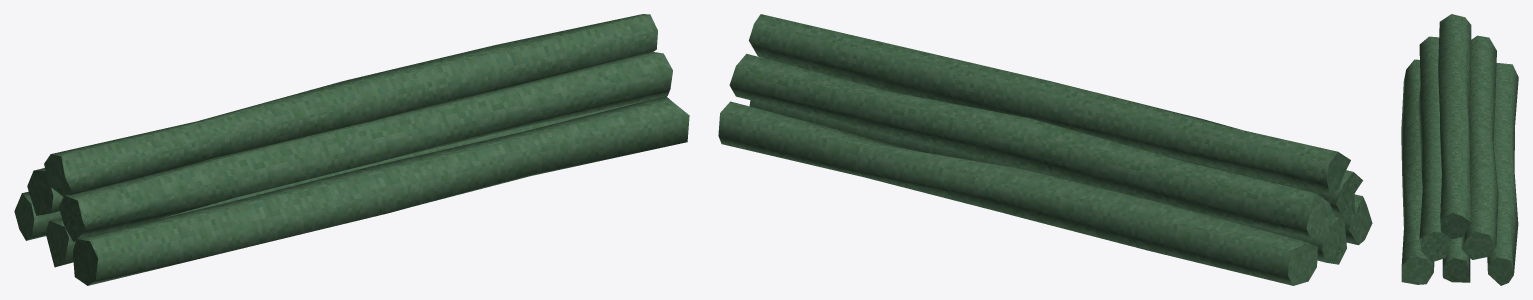
The model's file is LogPile.fbx.
3 renders of one model, left to right at view 1: azimuth 30°, elevation 25°; view 2: azimuth 150°, elevation 25°; view 3: azimuth 270°, elevation 25°, orthographic. The views are drawn at different scales.
Parts seen in each view (by area): view 1: Cylinder; view 2: Cylinder; view 3: Cylinder.
Part boxes in pixels (x1,y1,x2,y2): Cylinder: [14, 14, 689, 285]; Cylinder: [718, 14, 1372, 285]; Cylinder: [1401, 14, 1518, 285].
Size of the model in its own units: 4.49 by 1.11 by 0.8233.
